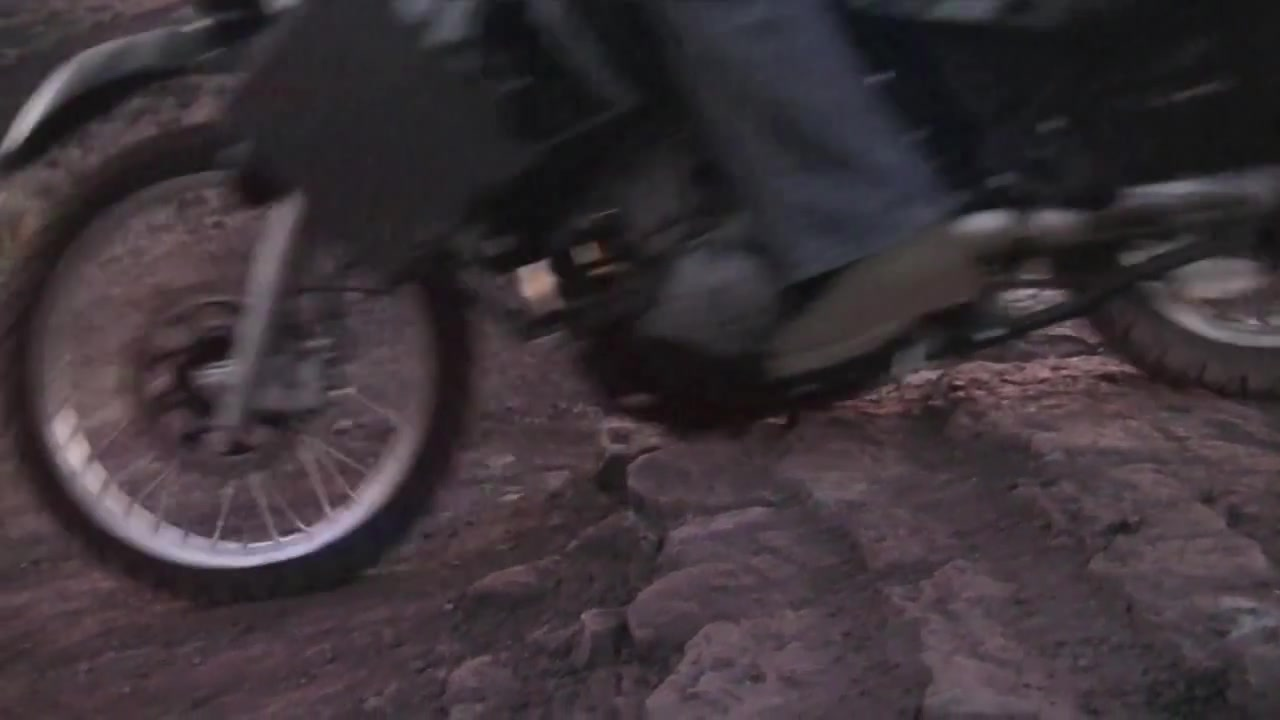motorbike: (1, 1, 1278, 603)
